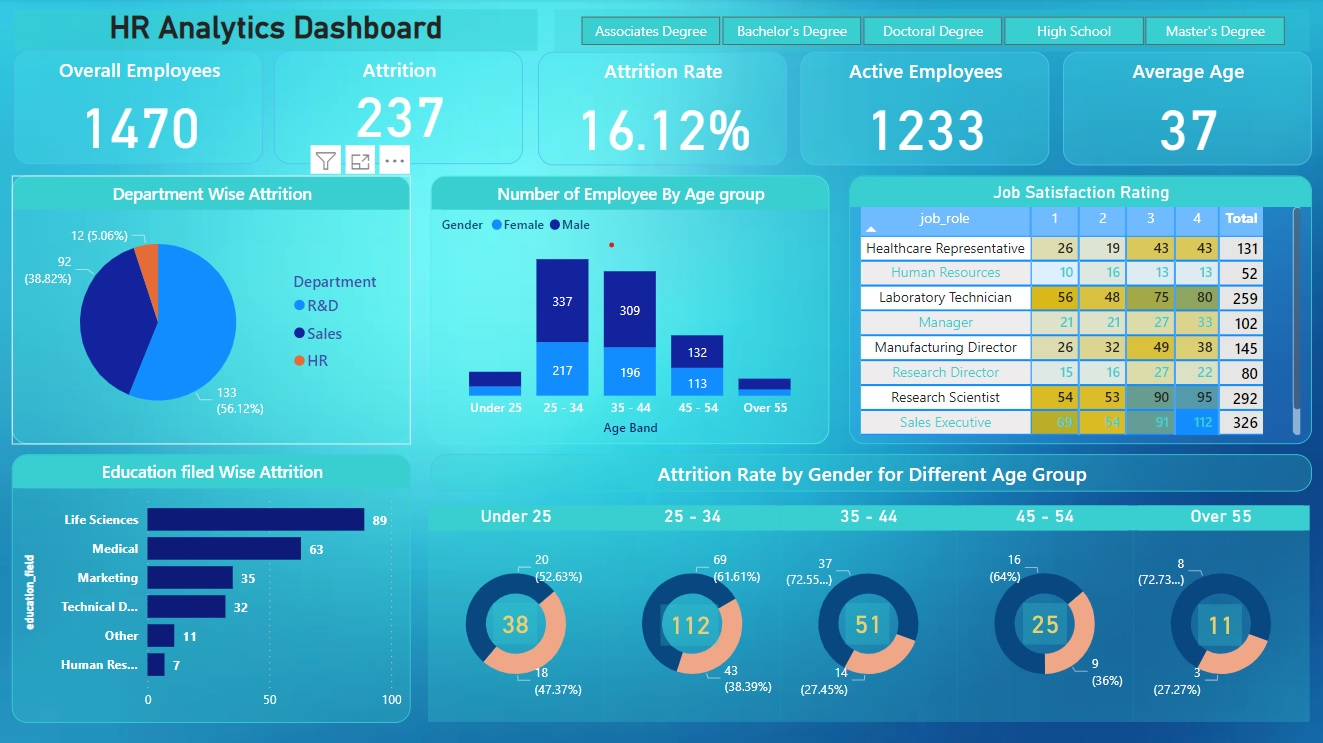

The dashboard page shown, as its layout file describes it:
{"tool":"powerbi","page":{"name":"Dashboard","canvas":[1280,720],"ordinal":0},"visuals":[{"type":"card","title":"Overall Employees","fields":{"Values":["Sum(hrdata.employee_count)"]},"box":[15.7,50.7,240,109.7],"z":0},{"type":"card","title":"Attrition","fields":{"Values":["Sum(hrdata.Attrirtion Count)"]},"box":[266.8,51,240,109.7],"z":1000},{"type":"card","title":"Attrition Rate","fields":{"Values":["hrdata.Attrition_Rate"]},"box":[520.4,51.3,240,109.7],"z":2000},{"type":"card","title":"Active Employees","fields":{"Values":["hrdata.Active Employees"]},"box":[774,51.6,240,109.7],"z":3000},{"type":"card","title":"Average Age ","fields":{"Values":["Avg(hrdata.age)"]},"box":[1027.5,51.9,240,109.7],"z":4000},{"type":"pieChart","title":"Department Wise Attrition","fields":{"Category":["hrdata.department"],"Y":["Sum(hrdata.Attrirtion Count)"]},"box":[13.3,171.3,384.7,259.3],"z":5000},{"type":"columnChart","title":"Number of Employee By Age group ","fields":{"Category":["hrdata.age_band"],"Y":["Sum(hrdata.employee_count)"],"Series":["hrdata.gender"]},"box":[417.3,171.3,384.7,259.3],"z":6000},{"type":"pivotTable","title":"Job Satisfaction Rating ","fields":{"Rows":["hrdata.job_role"],"Columns":["hrdata.job_satisfaction"],"Values":["Sum(hrdata.employee_count)"]},"box":[821.3,171.3,446.2,259.3],"z":7000},{"type":"barChart","title":"Education filed Wise Attrition ","fields":{"Category":["hrdata.education_field"],"Y":["Sum(hrdata.Attrirtion Count)"]},"box":[13,440,385,259],"z":8000},{"type":"donutChart","title":"Under 25","fields":{"Category":["hrdata.gender"],"Y":["Sum(hrdata.Attrirtion Count)"],"Series":["hrdata.age_band"]},"box":[415.1,490.2,170.1,208.6],"z":9000},{"type":"textbox","title":"Attrition Rate by Gender for Different Age Group ","box":[417.2,440.5,850.8,35.7],"z":10000},{"type":"donutChart","title":"25 - 34","fields":{"Category":["hrdata.gender"],"Y":["Sum(hrdata.Attrirtion Count)"],"Series":["hrdata.age_band"]},"box":[585.1,490.2,170.1,208.6],"z":11000},{"type":"donutChart","title":"35 - 44","fields":{"Category":["hrdata.gender"],"Y":["Sum(hrdata.Attrirtion Count)"],"Series":["hrdata.age_band"]},"box":[755.2,490.2,170.1,208.6],"z":12000},{"type":"donutChart","title":"45 - 54","fields":{"Category":["hrdata.gender"],"Y":["Sum(hrdata.Attrirtion Count)"],"Series":["hrdata.age_band"]},"box":[925.2,490.2,170.1,208.6],"z":13000},{"type":"donutChart","title":"Over 55","fields":{"Category":["hrdata.gender"],"Y":["Sum(hrdata.Attrirtion Count)"],"Series":["hrdata.age_band"]},"box":[1095.3,490.2,170.1,208.6],"z":14000},{"type":"card","fields":{"Values":["Sum(hrdata.Attrirtion Count)"]},"box":[1158.2,584.6,42.5,39.8],"z":15000},{"type":"card","fields":{"Values":["Sum(hrdata.Attrirtion Count)"]},"box":[989.4,583.2,42.5,39.8],"z":16000},{"type":"card","fields":{"Values":["Sum(hrdata.Attrirtion Count)"]},"box":[817.8,583.2,42.5,39.8],"z":17000},{"type":"card","fields":{"Values":["Sum(hrdata.Attrirtion Count)"]},"box":[639.5,584.6,56.3,39.8],"z":18000},{"type":"card","fields":{"Values":["Sum(hrdata.Attrirtion Count)"]},"box":[477.5,583.2,42.5,39.8],"z":18001},{"type":"textbox","title":"HR Analytics Dashboard","box":[15.1,11,505,39.8],"z":18002},{"type":"slicer","fields":{"Values":["hrdata.education"]},"box":[536.5,11,728.6,41.2],"z":18003}]}

Visuals, with their boxes in screenshot pixels (x1, y1, x2, y2), scaled from the page's 1280x720 canvas onto the 1323x743 screenshot:
"Overall Employees" card: x1=16 y1=52 x2=264 y2=166
"Attrition" card: x1=276 y1=53 x2=524 y2=166
"Attrition Rate" card: x1=538 y1=53 x2=786 y2=166
"Active Employees" card: x1=800 y1=53 x2=1048 y2=166
"Average Age " card: x1=1062 y1=54 x2=1310 y2=167
"Department Wise Attrition" pieChart: x1=14 y1=177 x2=411 y2=444
"Number of Employee By Age group " columnChart: x1=431 y1=177 x2=829 y2=444
"Job Satisfaction Rating " pivotTable: x1=849 y1=177 x2=1310 y2=444
"Education filed Wise Attrition " barChart: x1=13 y1=454 x2=411 y2=721
"Under 25" donutChart: x1=429 y1=506 x2=605 y2=721
"Attrition Rate by Gender for Different Age Group " textbox: x1=431 y1=455 x2=1311 y2=491
"25 - 34" donutChart: x1=605 y1=506 x2=781 y2=721
"35 - 44" donutChart: x1=781 y1=506 x2=956 y2=721
"45 - 54" donutChart: x1=956 y1=506 x2=1132 y2=721
"Over 55" donutChart: x1=1132 y1=506 x2=1308 y2=721
card - Sum(hrdata.Attrirtion Count): x1=1197 y1=603 x2=1241 y2=644
card - Sum(hrdata.Attrirtion Count): x1=1023 y1=602 x2=1067 y2=643
card - Sum(hrdata.Attrirtion Count): x1=845 y1=602 x2=889 y2=643
card - Sum(hrdata.Attrirtion Count): x1=661 y1=603 x2=719 y2=644
card - Sum(hrdata.Attrirtion Count): x1=494 y1=602 x2=537 y2=643
"HR Analytics Dashboard" textbox: x1=16 y1=11 x2=538 y2=52
slicer - hrdata.education: x1=555 y1=11 x2=1308 y2=54
